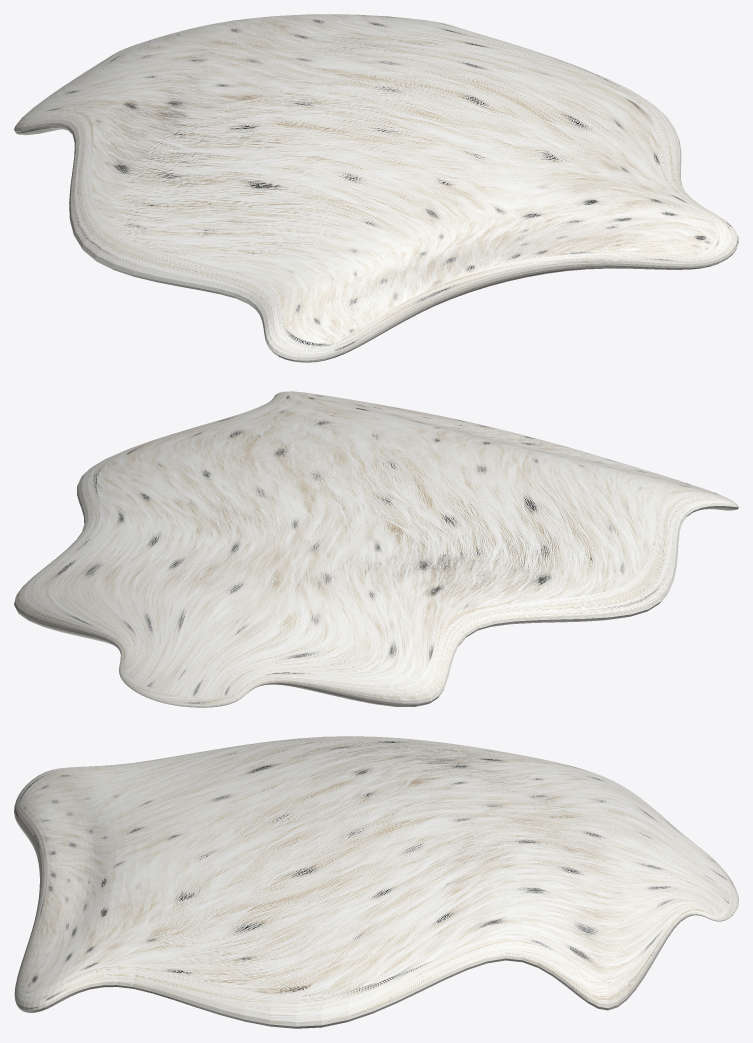
File: fur_b.glb
The picture shows the model from 3 angles, top to bottom: view 1: azimuth 30°, elevation 25°; view 2: azimuth 150°, elevation 25°; view 3: azimuth 270°, elevation 25°; orthographic projection. The views are drawn at different scales.
Visible parts, largest first — view 1: Cube; view 2: Cube; view 3: Cube.
Part boxes in pixels (box(x1,y1,x2,y2)): Cube: box(14, 14, 738, 362); Cube: box(14, 391, 738, 707); Cube: box(14, 736, 738, 1028).
Size of the model in its own units: 2.54 by 0.4004 by 2.76.
1 material, 1 textured.
